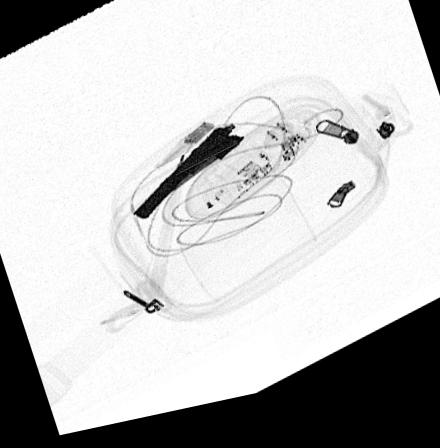Gun: (127, 130, 248, 225)
